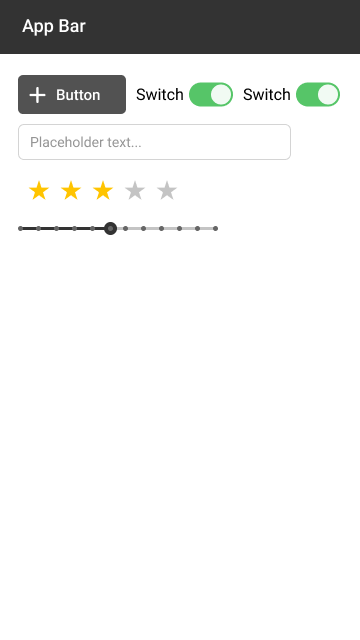buttonImage: (16, 73, 128, 115)
editText: (16, 121, 292, 163)
ratingBar: (28, 177, 187, 204)
slider: (14, 221, 220, 235)
switch: (135, 81, 234, 108), (242, 83, 341, 106)
toolbar: (1, 1, 360, 56)
